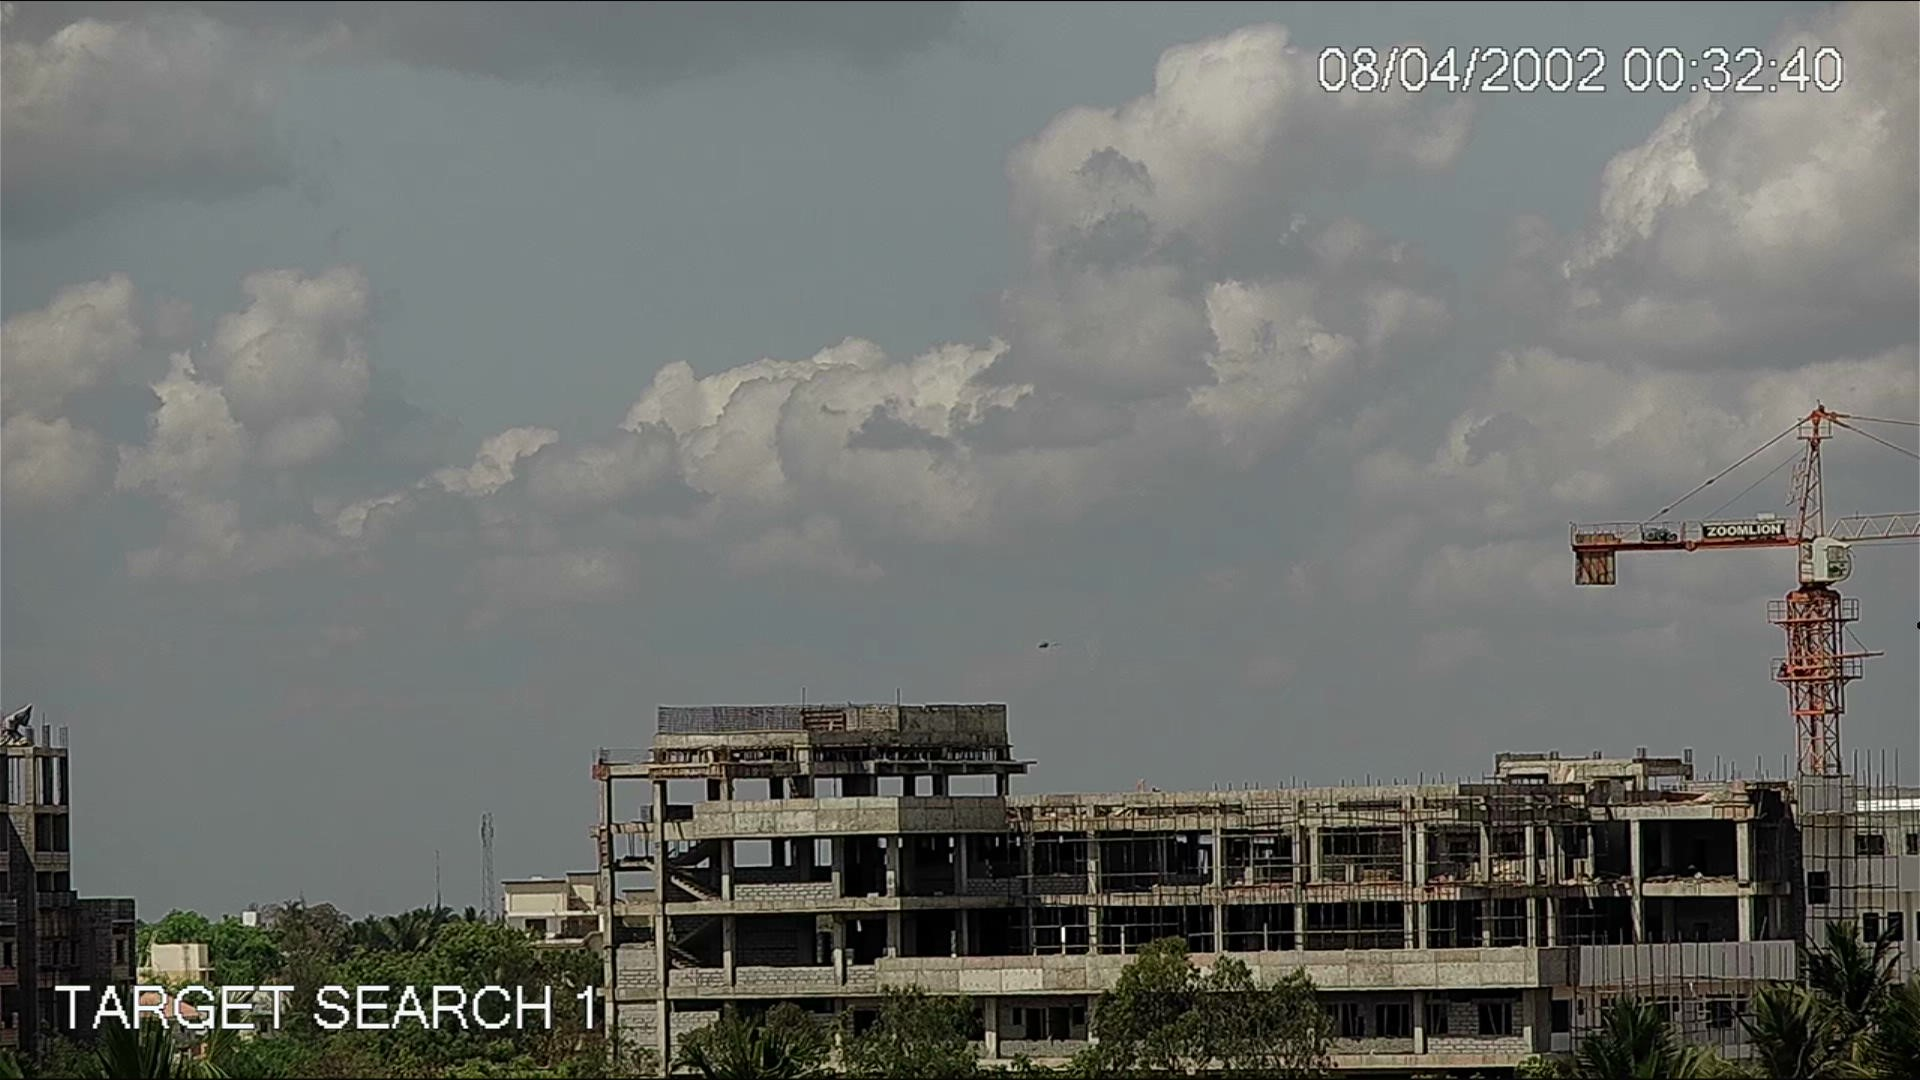SU_30: (1036, 638, 1064, 651)
